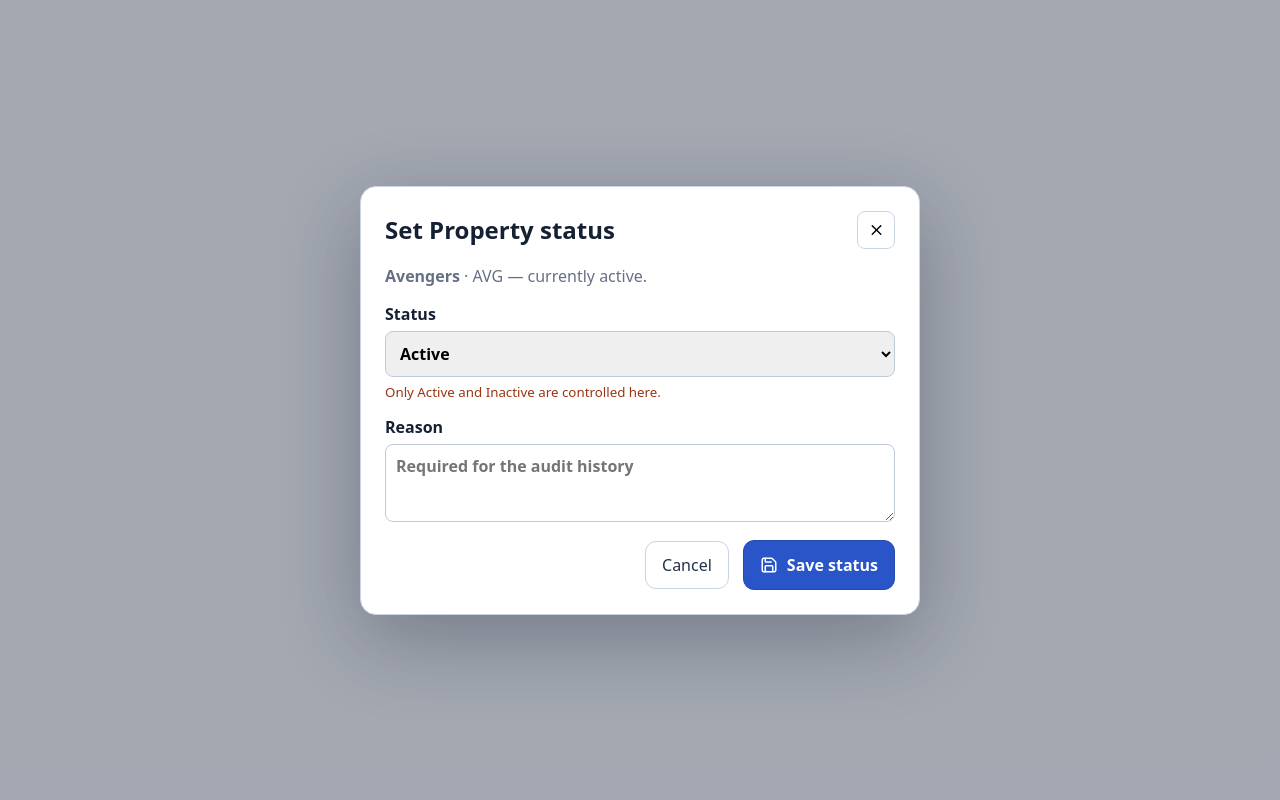
PropertyStatusDialog › submits the transition with a trimmed reason
This screenshot has width=1280, height=800.
Select "Inactive" in the dropdown labelled "Status Only Active and Inactive are controlled here." at (640, 354), box [385,330,895,376]
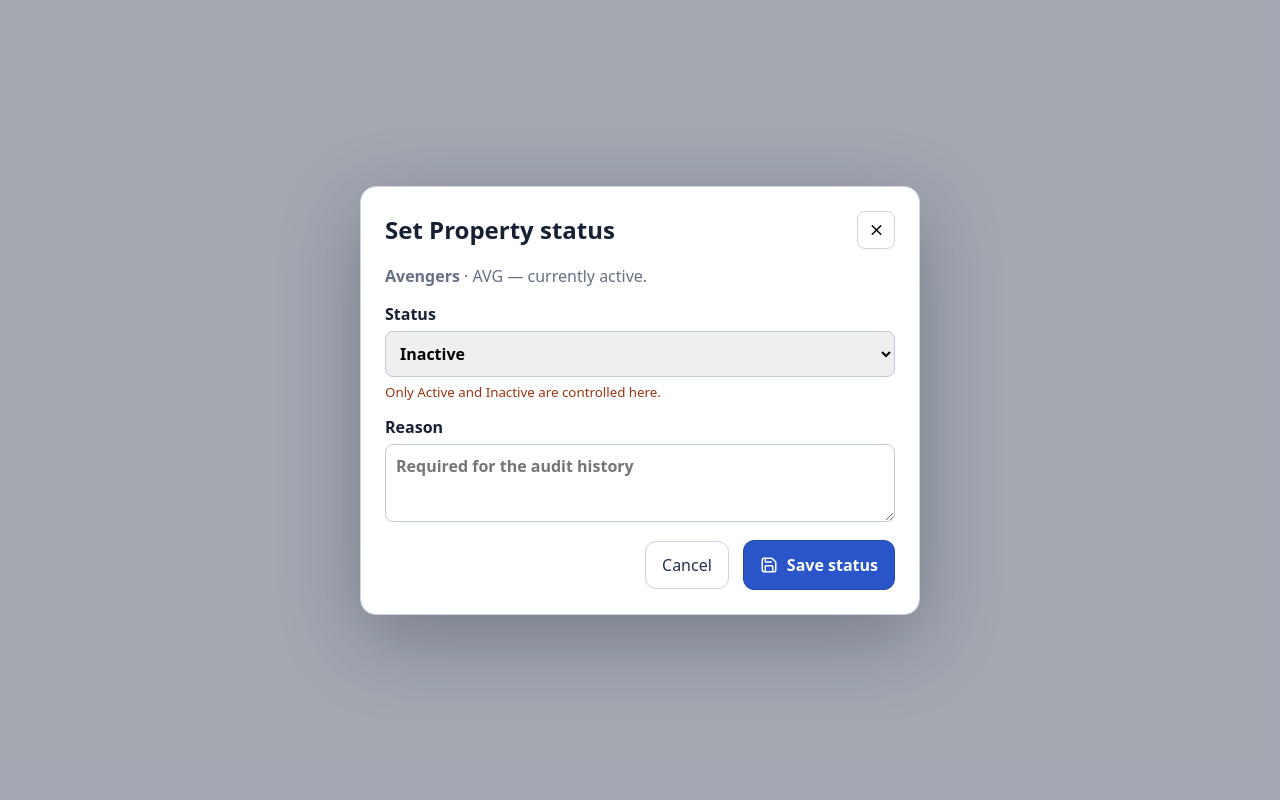
Type "  Licence lapsed  " into the text box labelled "Reason" at (640, 482), box [385,444,895,522]
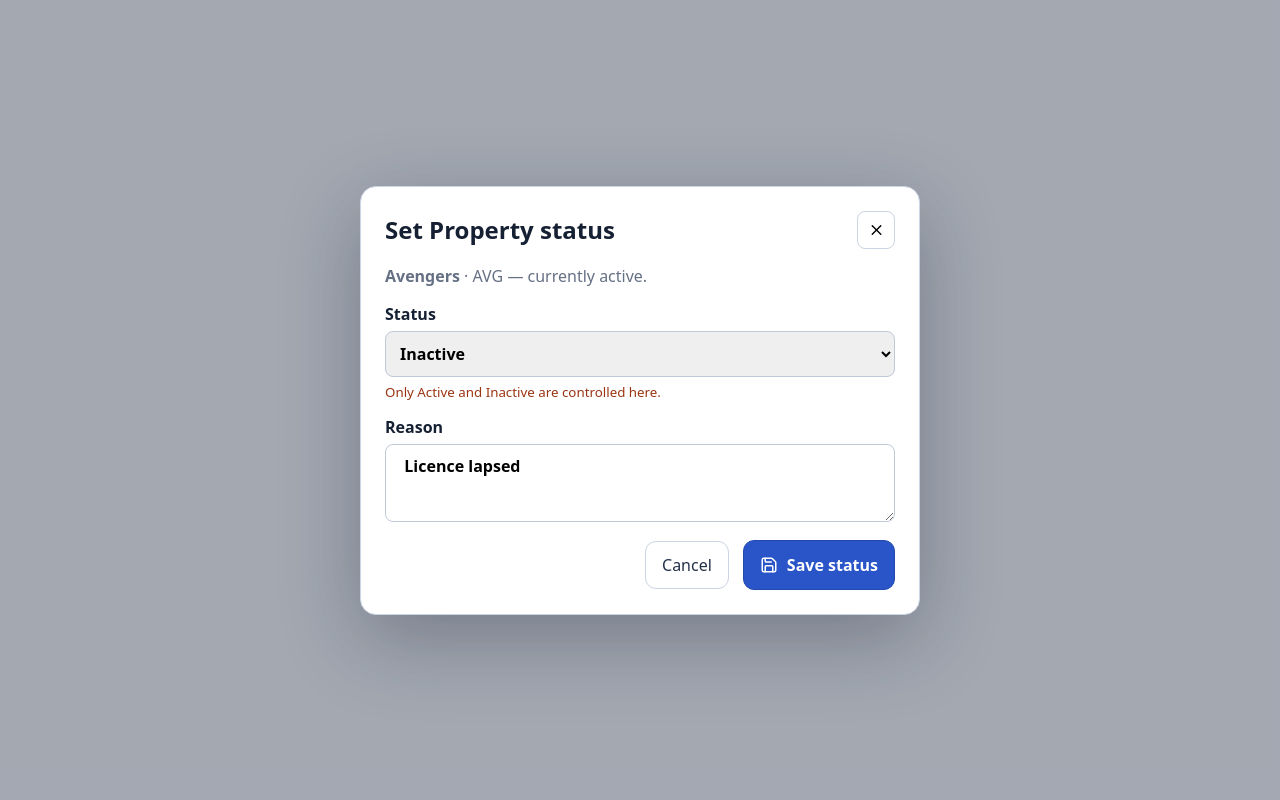
Click the button "Save status" at (819, 564), box [743,540,895,590]
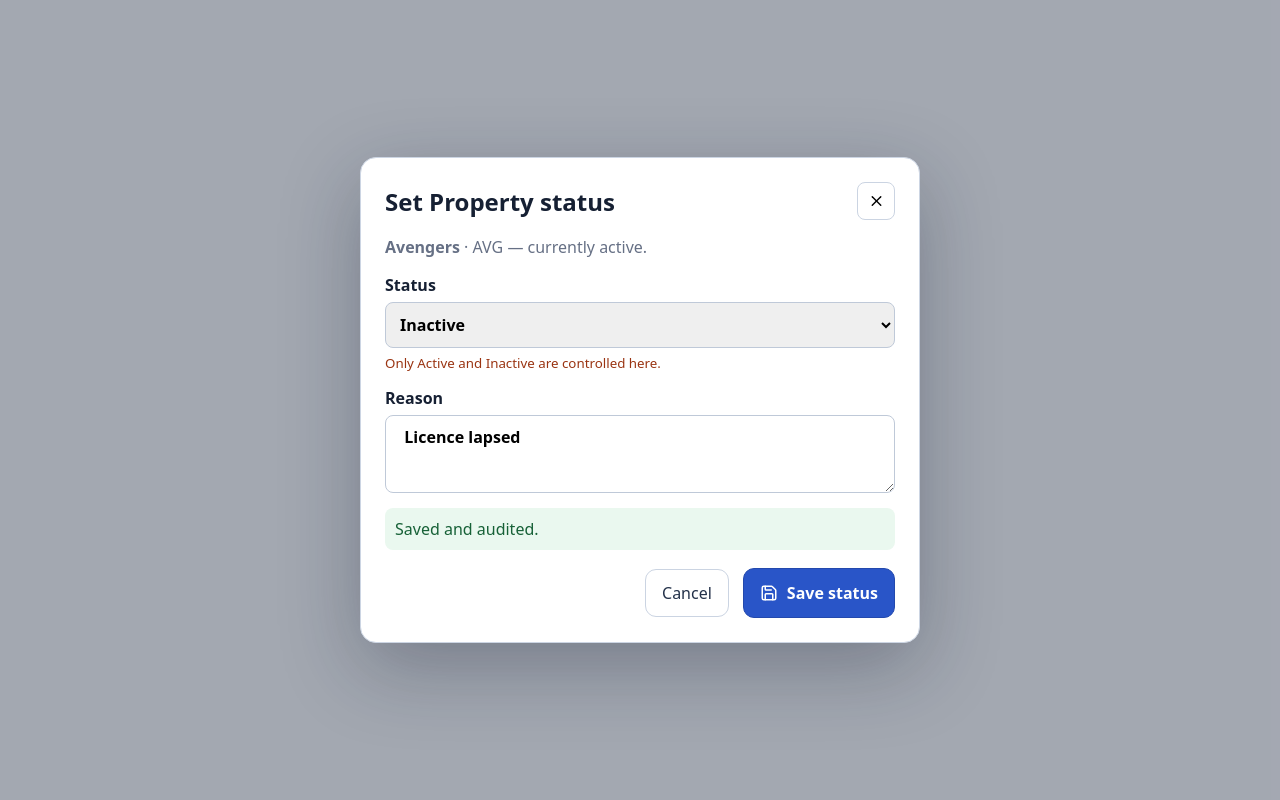
Check: the text "Saved and audited." is shown, box [385,508,895,550]
